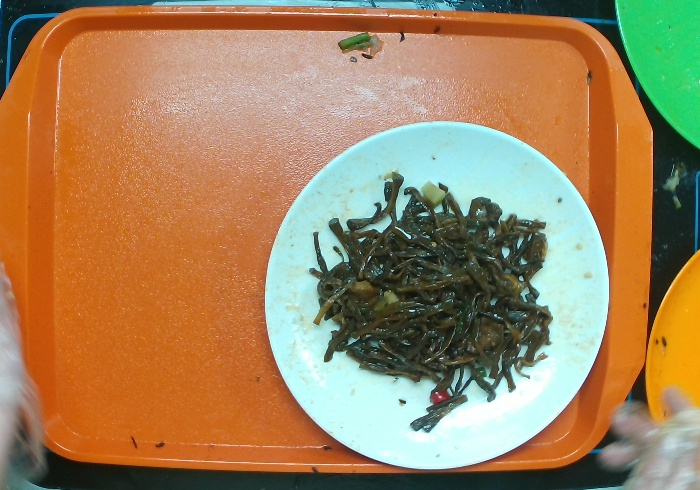HZYJPL-Bai_Se_Yuan_Pan: (253, 115, 614, 475)
